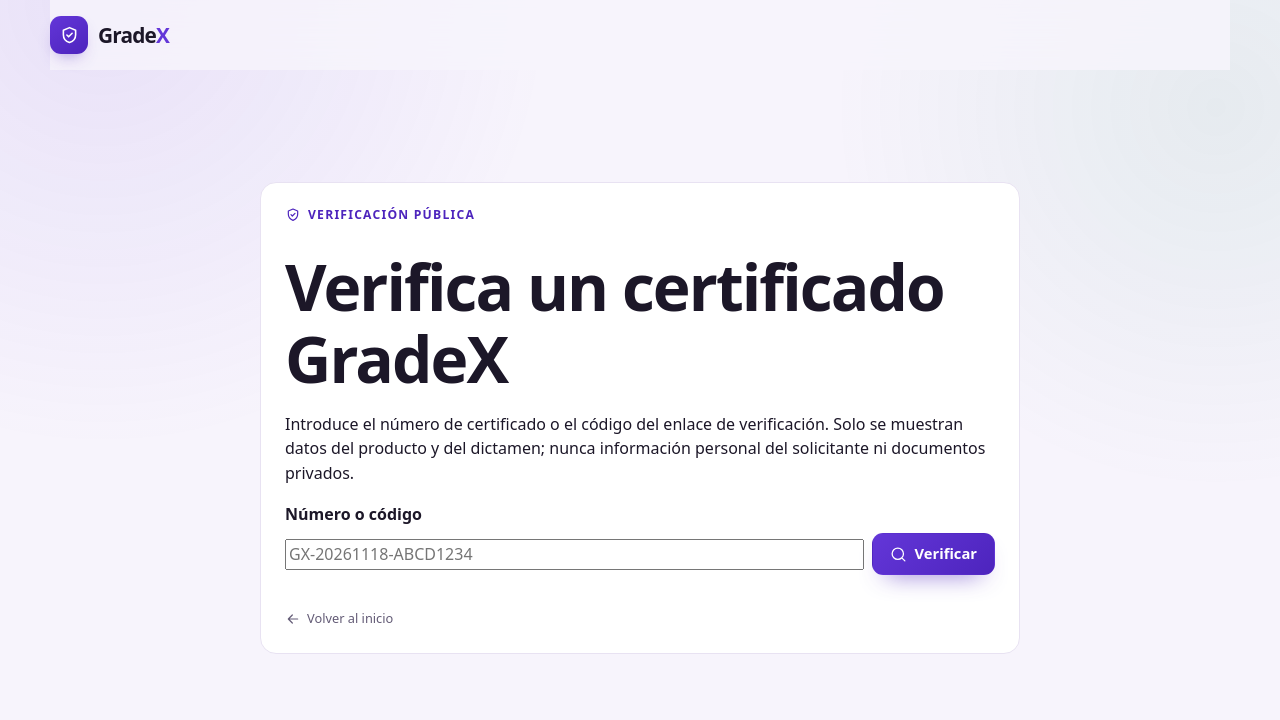
Scenario: VerifyCertificatePage › valida que el código no esté vacío
Click the button "Verificar" at point(933, 554), box [872, 533, 995, 575]
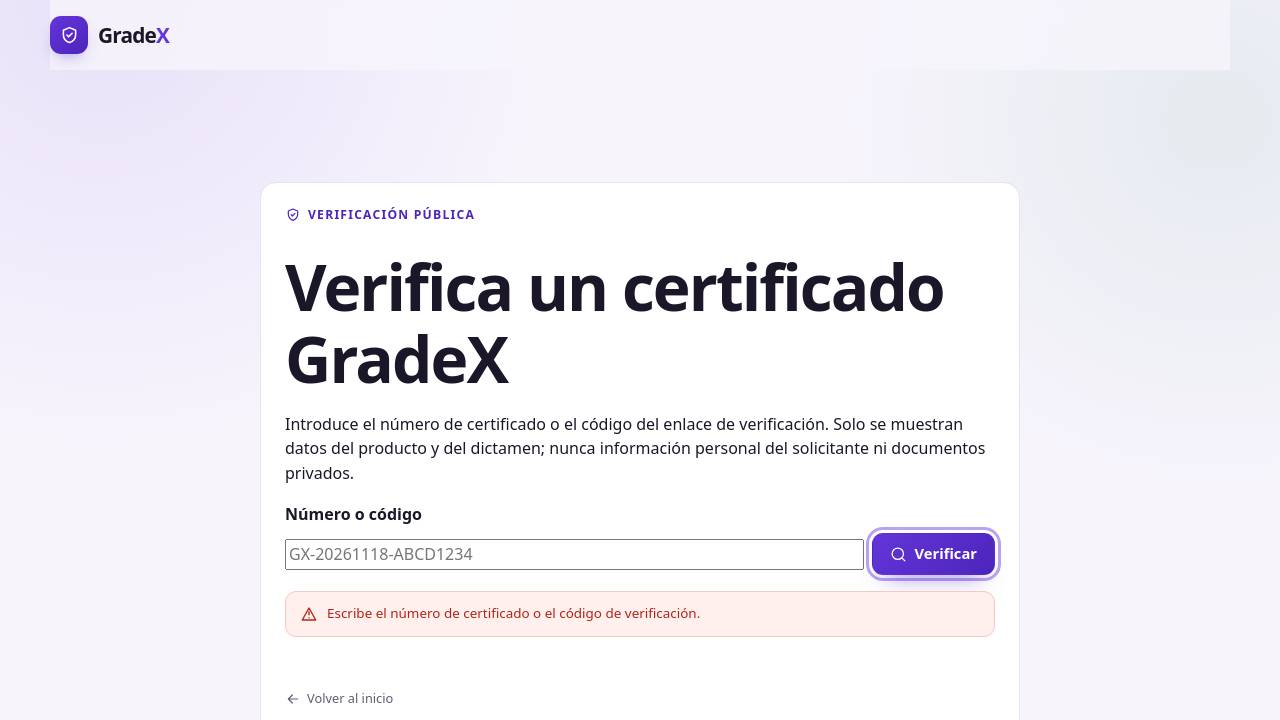
Now the text "Escribe el número de certificado o el código de verificación." is shown, box [285, 591, 995, 637]
